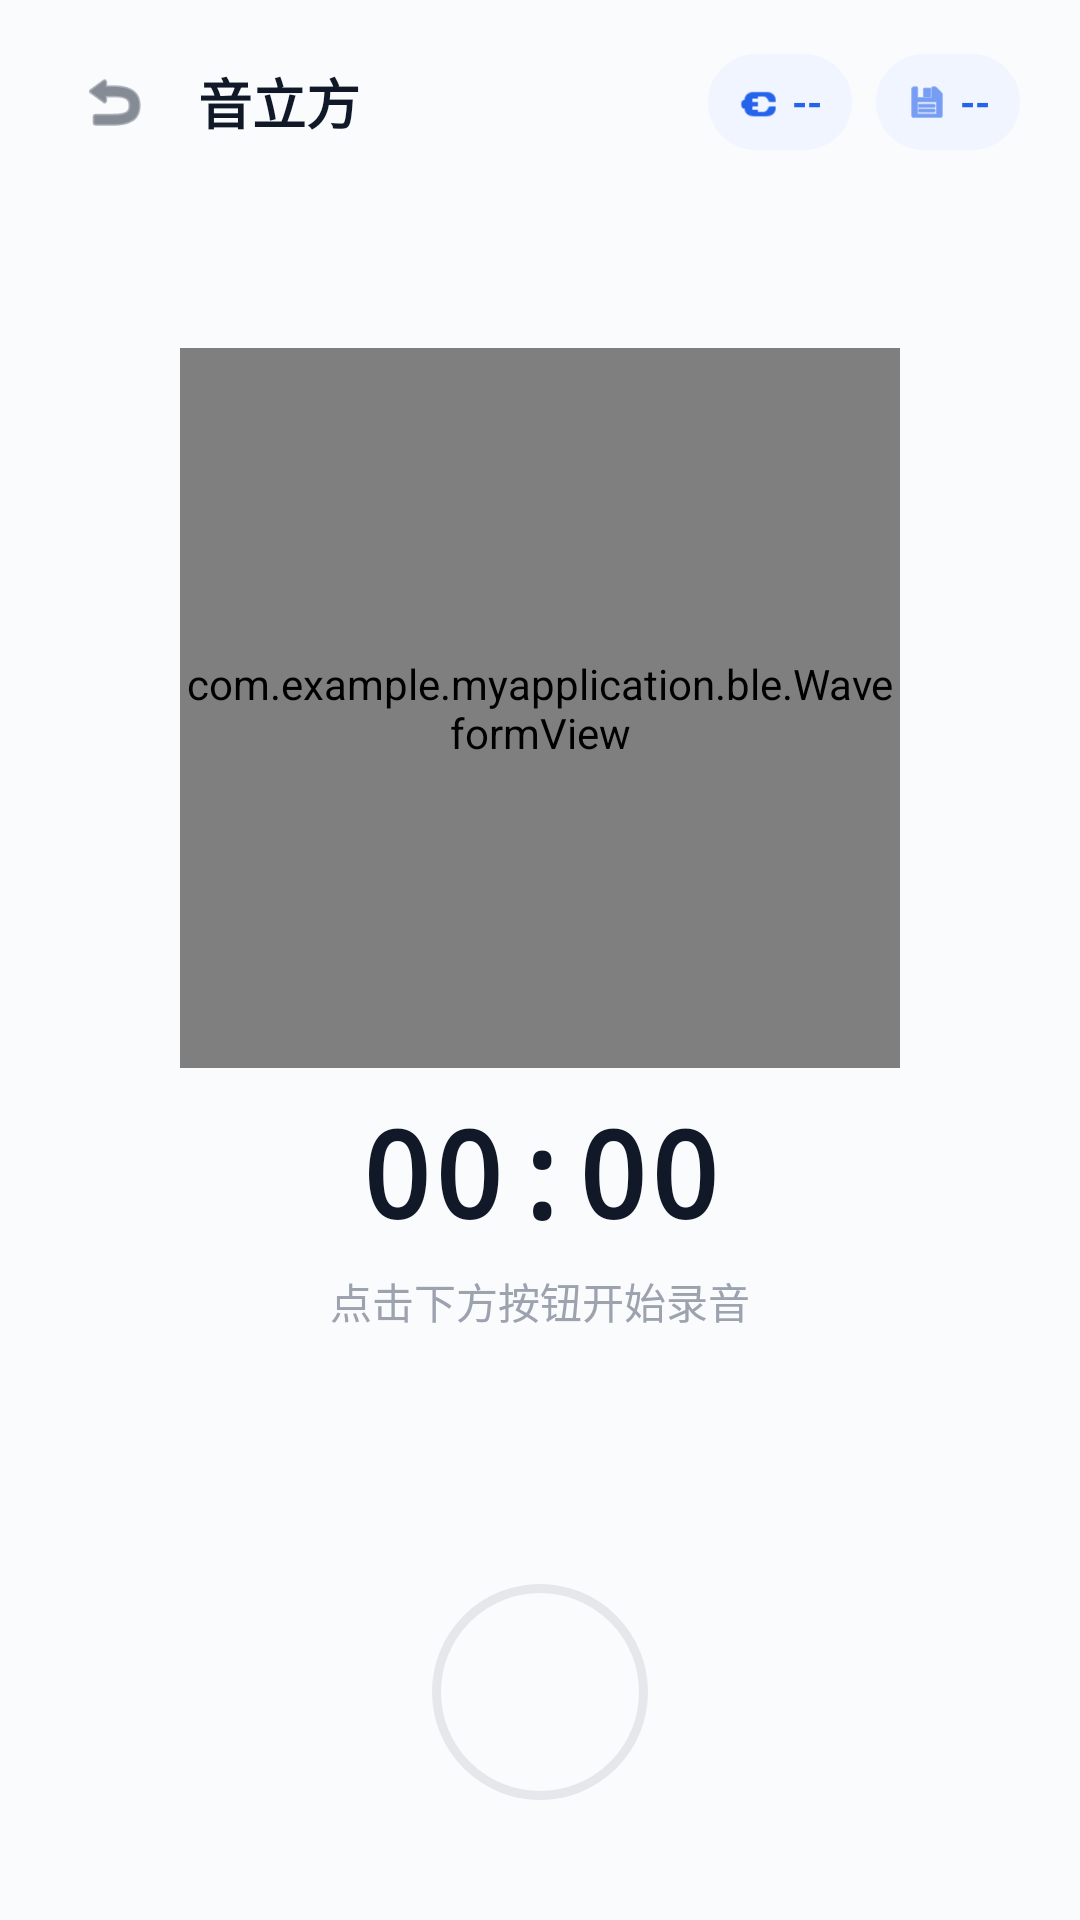

Icon click points for this 1080w x 1920h phone screenshot, format [x,y]:
revert: [115,102]
save: [927,102]
